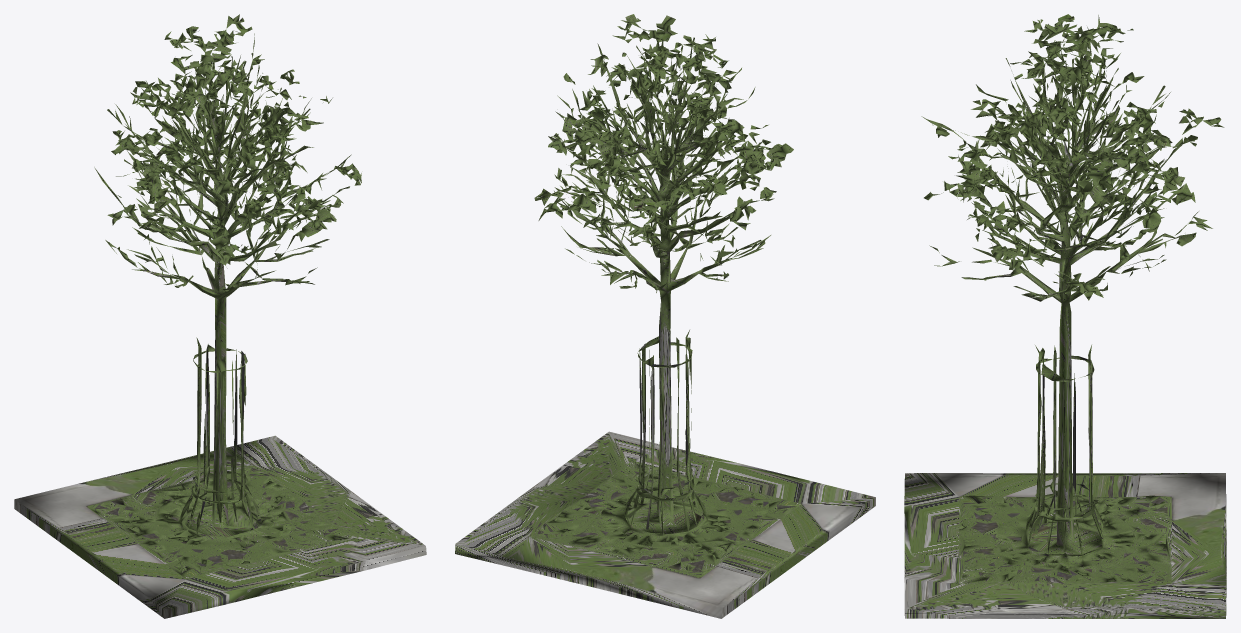
File: arbre.glb
The picture shows the model from 3 angles, left to right: view 1: azimuth 30°, elevation 25°; view 2: azimuth 150°, elevation 25°; view 3: azimuth 270°, elevation 25°; orthographic projection. The views are drawn at different scales.
Parts seen in each view (by area): view 1: output_unwrapped; view 2: output_unwrapped; view 3: output_unwrapped.
Boxes of the visible parts, bbox=[...] form: output_unwrapped: bbox=[14, 14, 426, 618]; output_unwrapped: bbox=[455, 14, 875, 618]; output_unwrapped: bbox=[904, 14, 1226, 618].
Bounding box in the file's own units: 1 × 1.83 × 1.
1 material, 1 textured.
